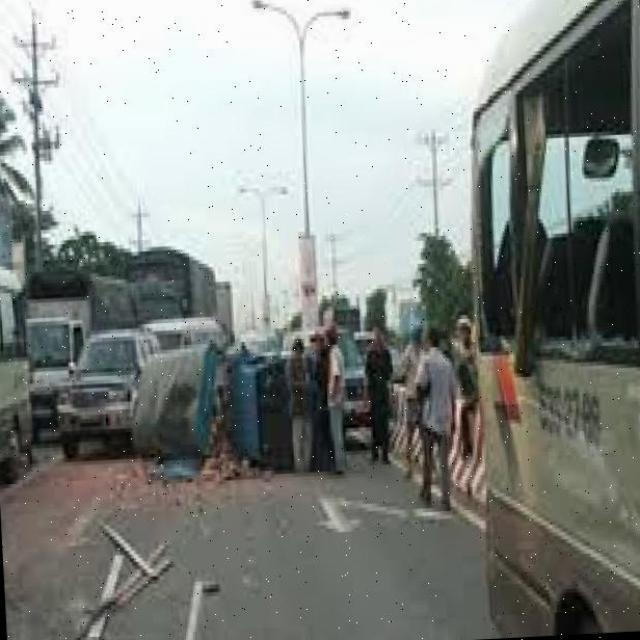accident: (122, 324, 358, 512)
